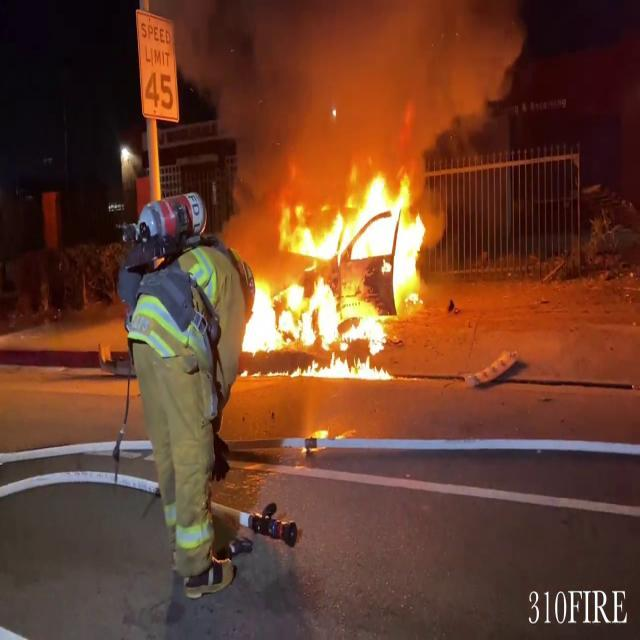Fire: (235, 160, 440, 378)
Smoke: (186, 0, 528, 188)
